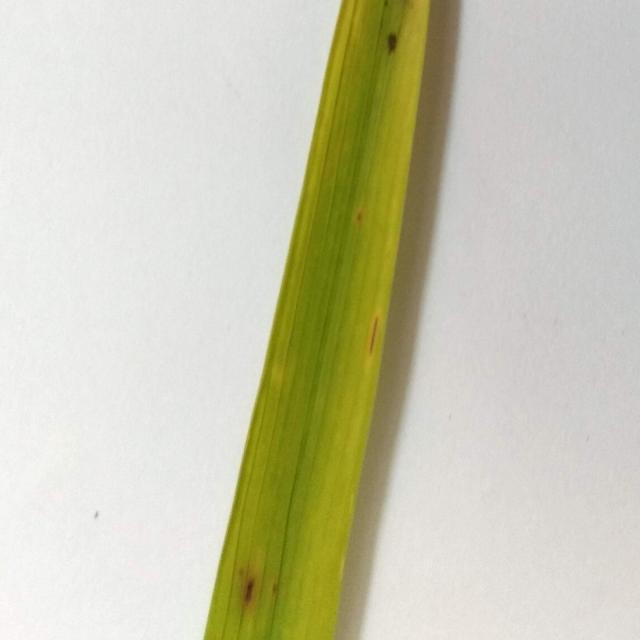Brown spot: (171, 1, 488, 640)
